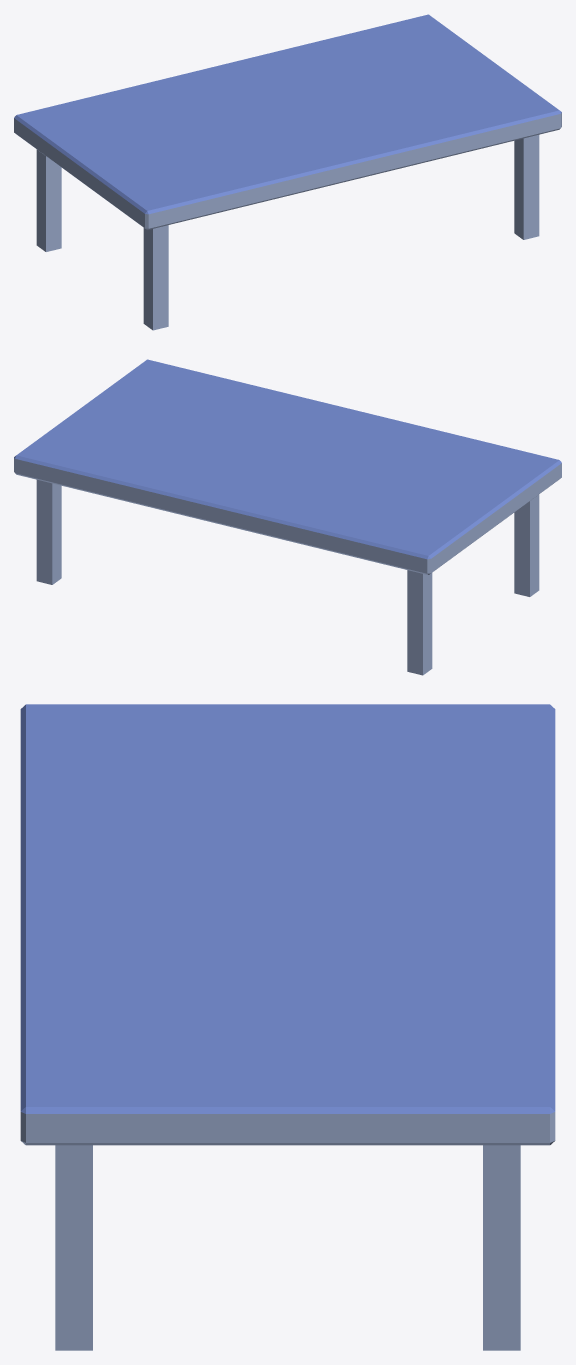
File: table.fbx
3 renders of one model, top to bottom at view 1: azimuth 30°, elevation 25°; view 2: azimuth 150°, elevation 25°; view 3: azimuth 270°, elevation 25°, orthographic. The views are drawn at different scales.
Parts seen in each view (by area): view 1: Cube, Cube.001; view 2: Cube, Cube.001; view 3: Cube, Cube.001.
Part boxes in pixels (left/top/right/bottom): Cube: left=14, top=14, right=561, bottom=214; Cube.001: left=14, top=112, right=561, bottom=330; Cube: left=14, top=359, right=561, bottom=559; Cube.001: left=14, top=457, right=561, bottom=675; Cube: left=20, top=704, right=555, bottom=1113; Cube.001: left=20, top=1112, right=555, bottom=1350.
Bounding box in the file's own units: 360 × 106 × 200.
